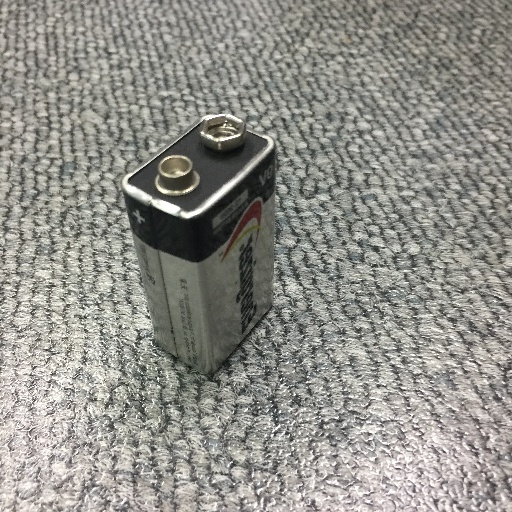Battery_3: (110, 100, 298, 390)
